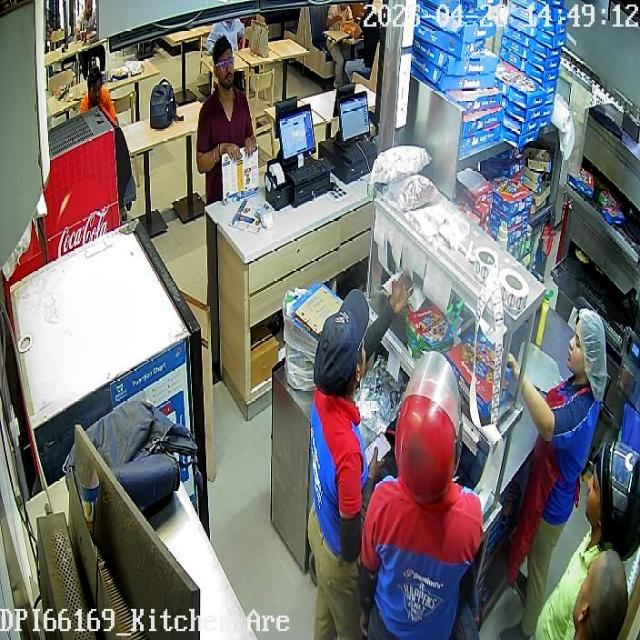helmet: (395, 350, 464, 499)
no_helmet: (314, 288, 369, 392), (567, 309, 606, 397)
